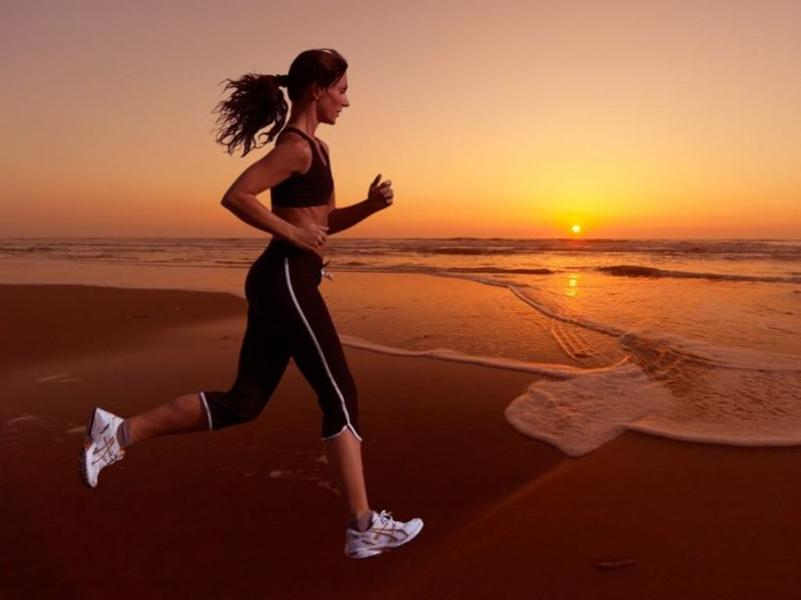person: (81, 49, 424, 561)
